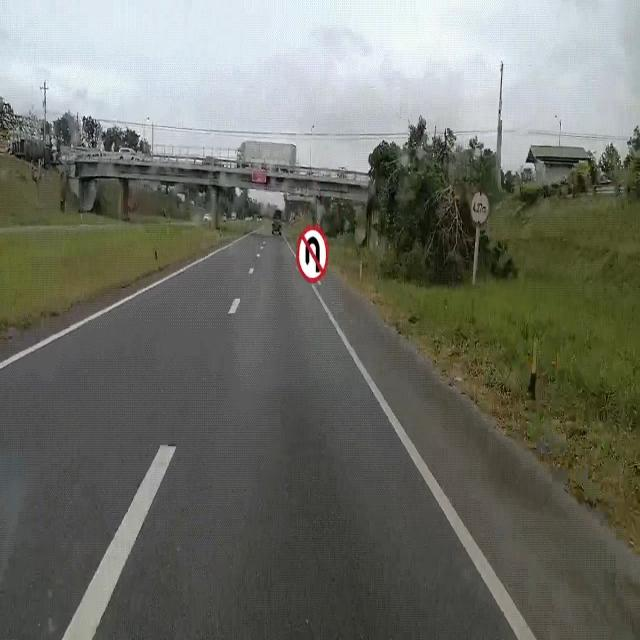Demi-Tour-Interdit: (295, 220, 333, 288)
